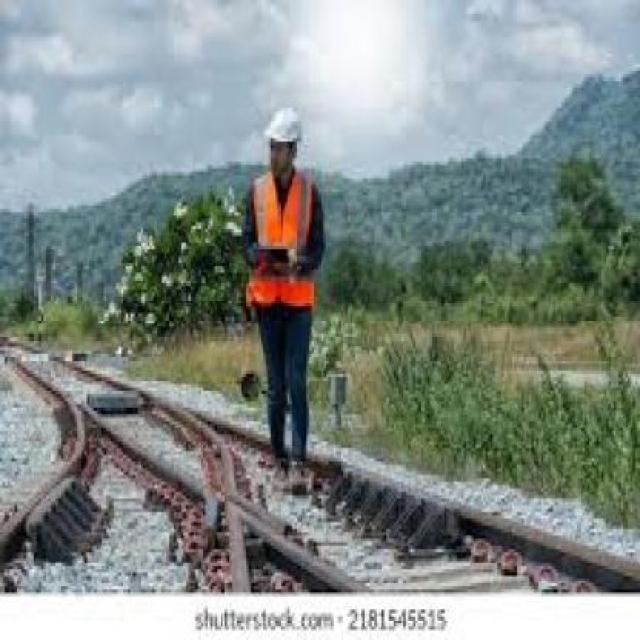rail: (1, 319, 636, 599)
